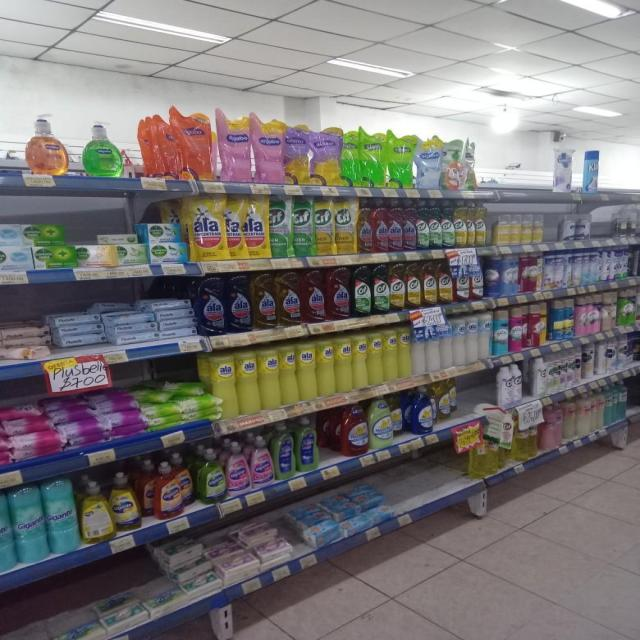ala_conc_amarillo: (252, 271, 276, 330), (277, 270, 301, 326)
ala_conc_azul: (196, 273, 225, 336), (226, 273, 251, 333)
ala_conc_rojo: (326, 266, 351, 320), (302, 268, 325, 323), (357, 198, 372, 254), (373, 199, 388, 253), (388, 198, 402, 252), (403, 199, 416, 251)
ala_crem_amarillo: (208, 350, 236, 419), (237, 348, 258, 415), (259, 344, 279, 410), (298, 338, 316, 401), (316, 336, 334, 398), (280, 342, 297, 406), (335, 332, 352, 393), (352, 331, 368, 390), (368, 328, 382, 386), (383, 327, 397, 382), (398, 324, 411, 378)
ala_crem_blanco: (411, 322, 425, 376), (426, 322, 440, 372), (452, 317, 465, 366), (441, 319, 453, 369), (466, 314, 478, 364)
ala_sachet_amarillo: (188, 194, 225, 261), (246, 194, 268, 258), (226, 195, 245, 259)
cif_conc_bot_amarilla: (389, 263, 405, 311), (406, 262, 421, 308), (422, 261, 436, 306), (454, 200, 467, 248), (438, 261, 452, 304), (474, 202, 487, 246), (468, 202, 478, 246), (486, 204, 495, 245)
cif_conc_botella_roja: (454, 260, 469, 302)
cif_conc_botella_verde: (352, 265, 371, 317), (372, 264, 389, 314), (416, 199, 429, 250), (429, 200, 442, 249), (441, 200, 454, 248)
cif_conc_sachet_amarillo: (335, 196, 357, 255), (314, 196, 334, 256)
cif_conc_sachet_verde: (270, 195, 291, 258), (293, 196, 313, 257)
heroe: (0, 493, 13, 575)
magistral_con_amarillo: (369, 397, 394, 449), (436, 381, 452, 423)
magistral_con_azul: (409, 386, 434, 434)
